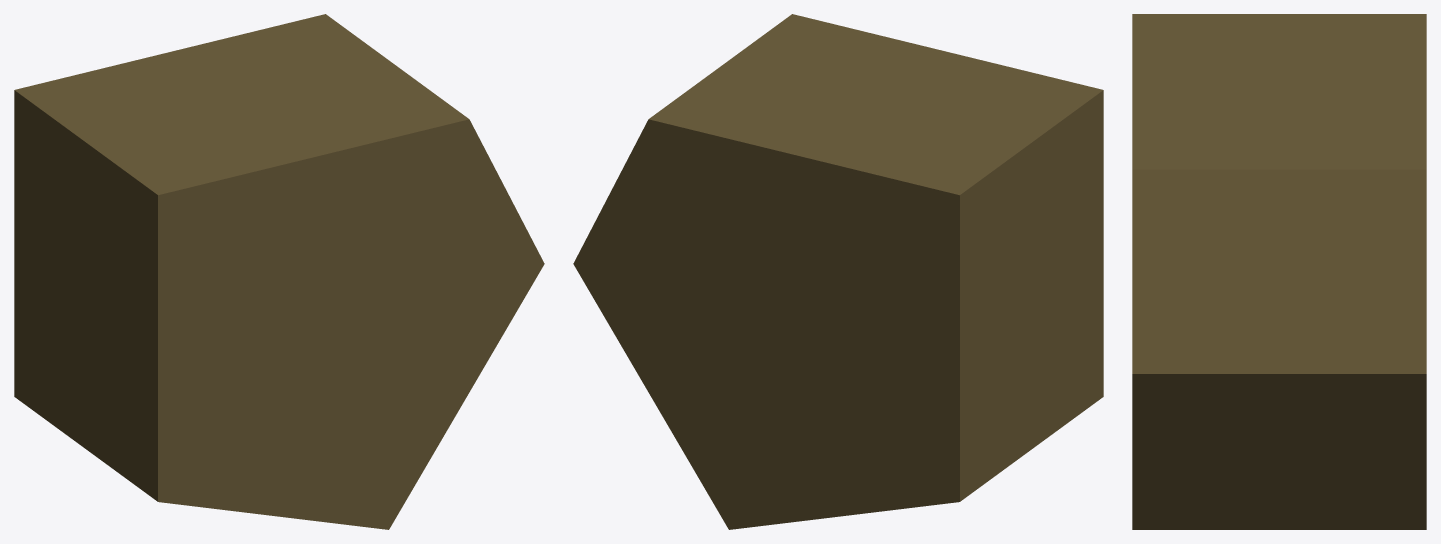
Rendered from chart_obstacle_051.obj.
3 views of the same model, side by side, from view 1: azimuth 30°, elevation 25°; view 2: azimuth 150°, elevation 25°; view 3: azimuth 270°, elevation 25° (orthographic). The views are drawn at different scales.
Parts seen in each view (by area): view 1: chart_obstacle_051; view 2: chart_obstacle_051; view 3: chart_obstacle_051.
Part boxes in pixels (left/top/right/bottom): chart_obstacle_051: left=14, top=14, right=544, bottom=529; chart_obstacle_051: left=573, top=14, right=1103, bottom=529; chart_obstacle_051: left=1132, top=14, right=1426, bottom=529.
Bounding box in the file's own units: 12.41 × 12 × 8.
